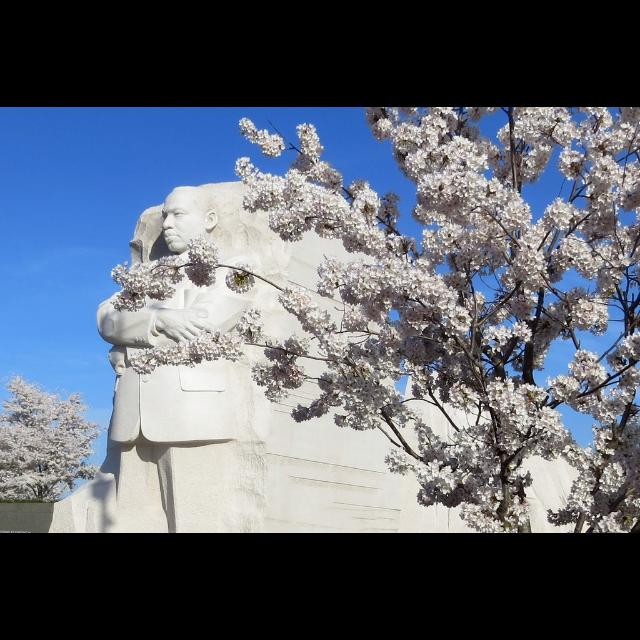Flower: (111, 107, 639, 533), (0, 376, 104, 502)
